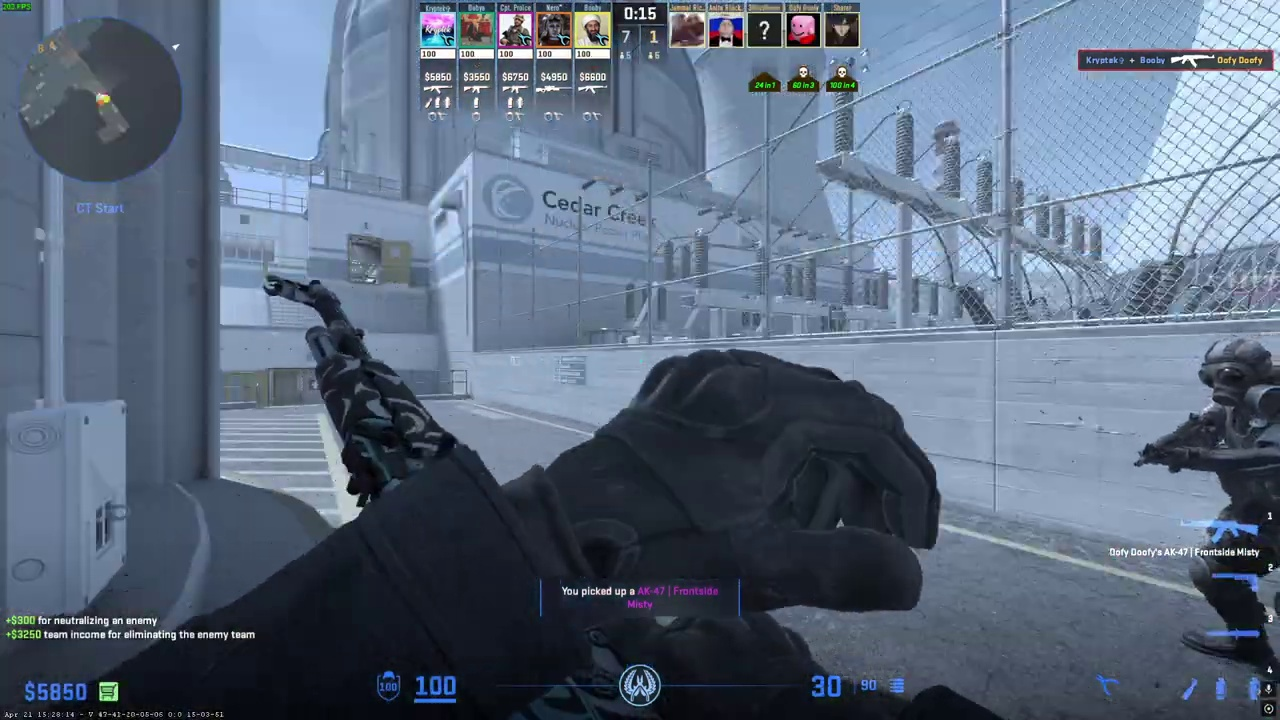CT: (1176, 338, 1280, 662)
